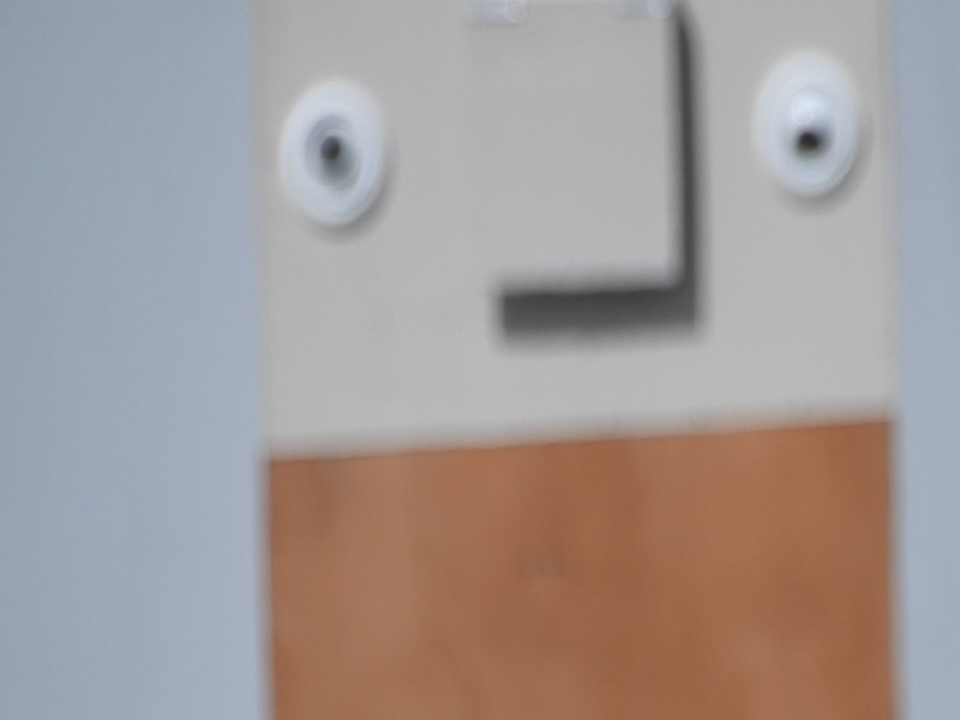facade: (283, 16, 864, 301)
